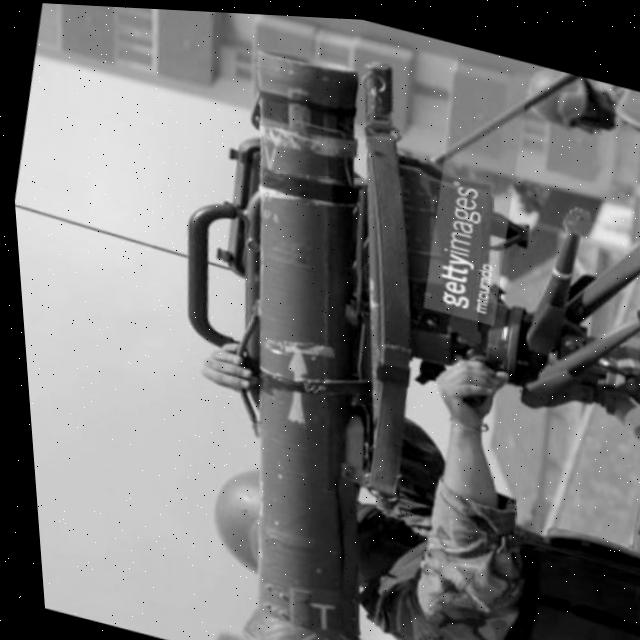rocket: (131, 26, 479, 640)
